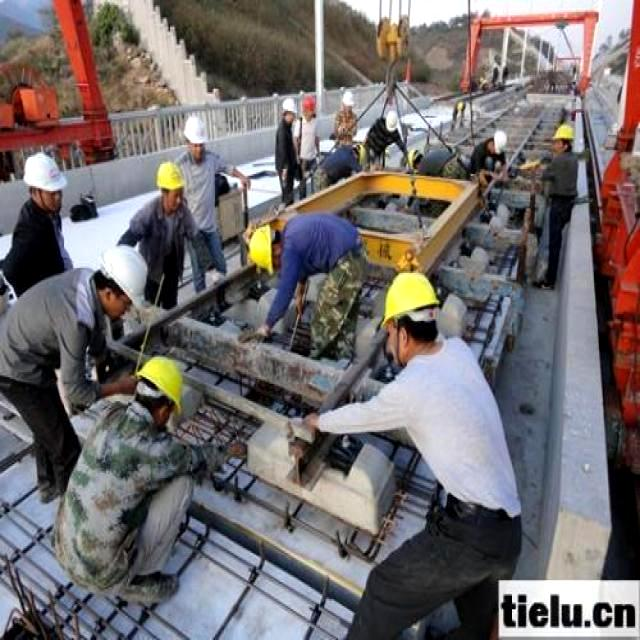hard_hat: (383, 271, 439, 326), (100, 244, 147, 305), (136, 357, 183, 404), (24, 152, 67, 191), (157, 162, 183, 188), (183, 114, 206, 142), (553, 123, 572, 140)
person: (305, 273, 521, 638), (55, 357, 238, 601), (0, 246, 146, 500), (178, 114, 247, 292), (120, 162, 197, 309), (0, 152, 72, 295), (538, 114, 576, 287)
